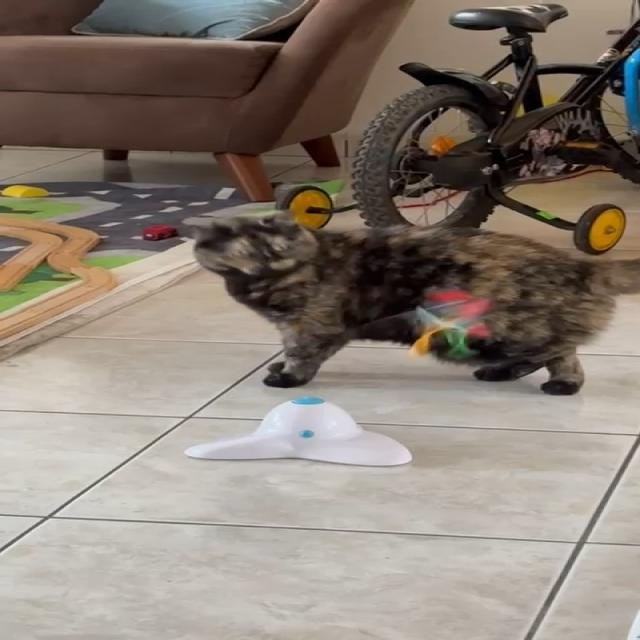authorized: (180, 210, 639, 395)
